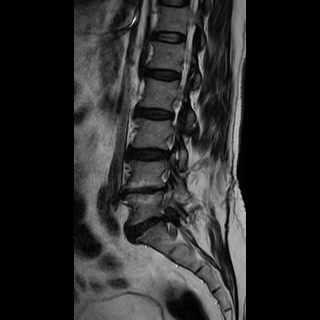RFS0: (161, 91, 186, 130)
